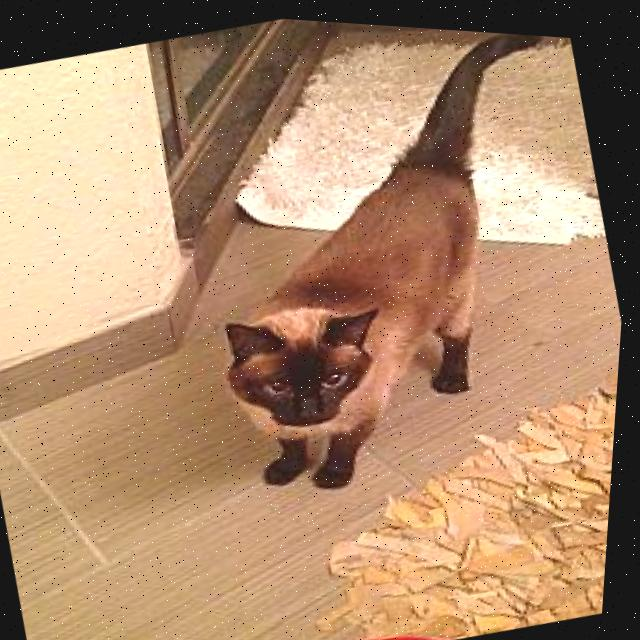Siamese: (148, 9, 640, 524)
